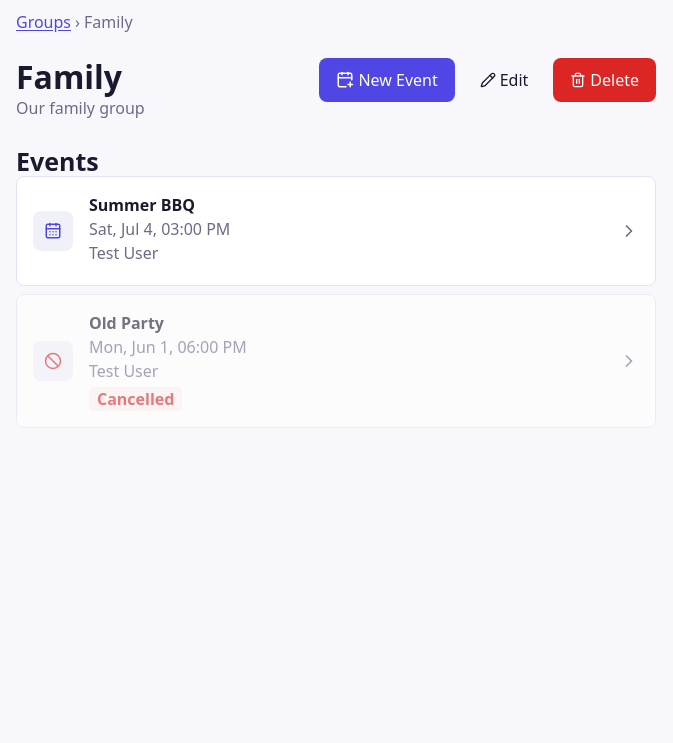
Test: GroupDetail › shows the edit form when Edit is clicked
Click the button with aria-label "edit group". click: (504, 80)
box: [463,58,545,102]
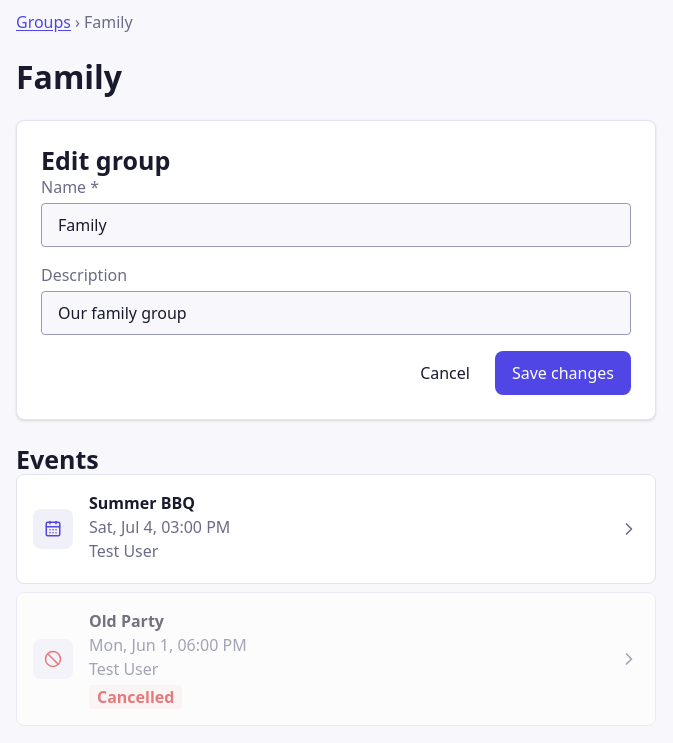
Check: the heading "Edit group" is shown, box [41,143,170,177]
Check: the field labelled "Name *" holds "Family", box [41,203,631,247]
Check: the field labelled "Description" holds "Our family group", box [41,291,631,335]
